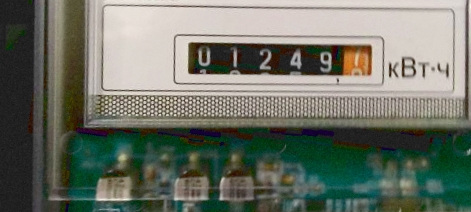0: (191, 39, 214, 67)
1: (223, 42, 241, 69)
2: (253, 44, 276, 72)
4: (286, 42, 307, 71)
7: (346, 42, 364, 68)
9: (315, 46, 336, 73)
screen: (160, 11, 401, 115)
